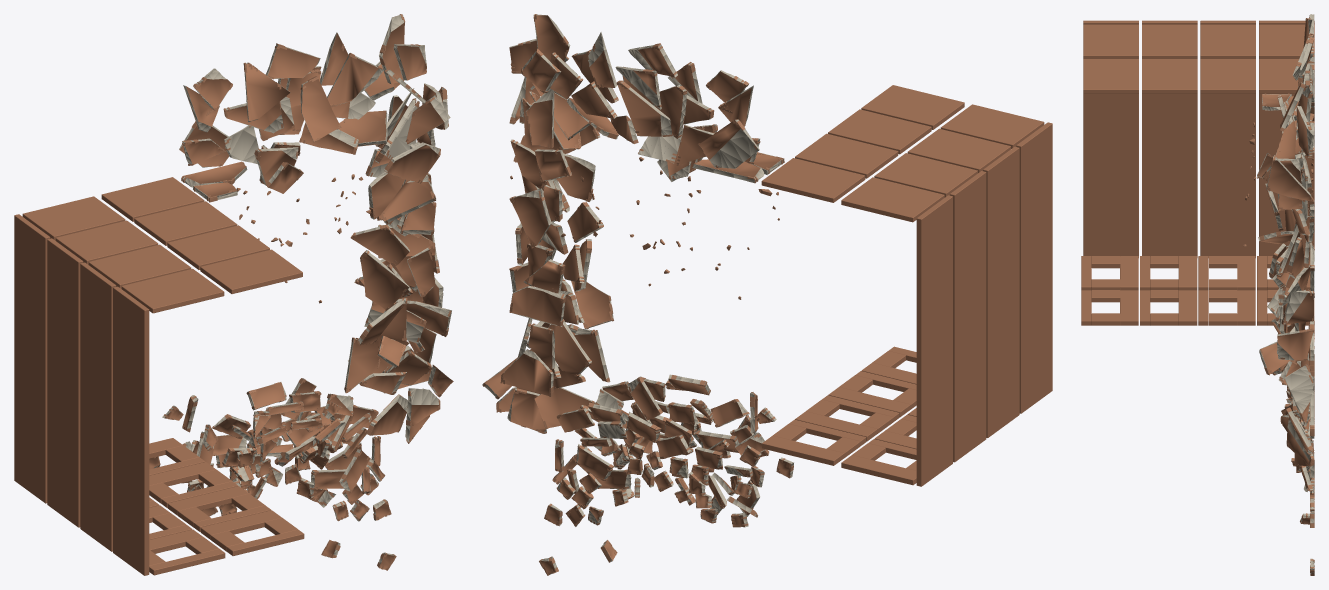
File: visual_brick.glb
The picture shows the model from 3 angles, left to right: view 1: azimuth 30°, elevation 25°; view 2: azimuth 150°, elevation 25°; view 3: azimuth 270°, elevation 25°; orthographic projection. The views are drawn at different scales.
Parts seen in each view (by area): view 1: Apartment_Brick; view 2: Apartment_Brick; view 3: Apartment_Brick.
Boxes of the visible parts, x1,y1,x2,y2 form: Apartment_Brick: [14, 14, 453, 575]; Apartment_Brick: [482, 14, 1052, 575]; Apartment_Brick: [1081, 14, 1314, 575].
Bounding box in the file's own units: 24.13 × 29.19 × 12.56.
